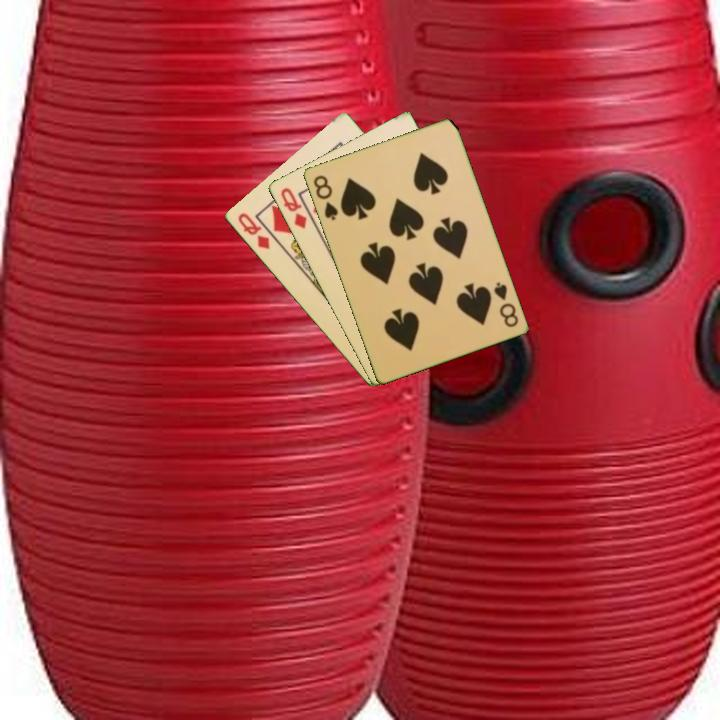8s: (309, 171, 341, 223), (490, 278, 521, 330)
Qd: (234, 209, 273, 252), (276, 184, 310, 232)
